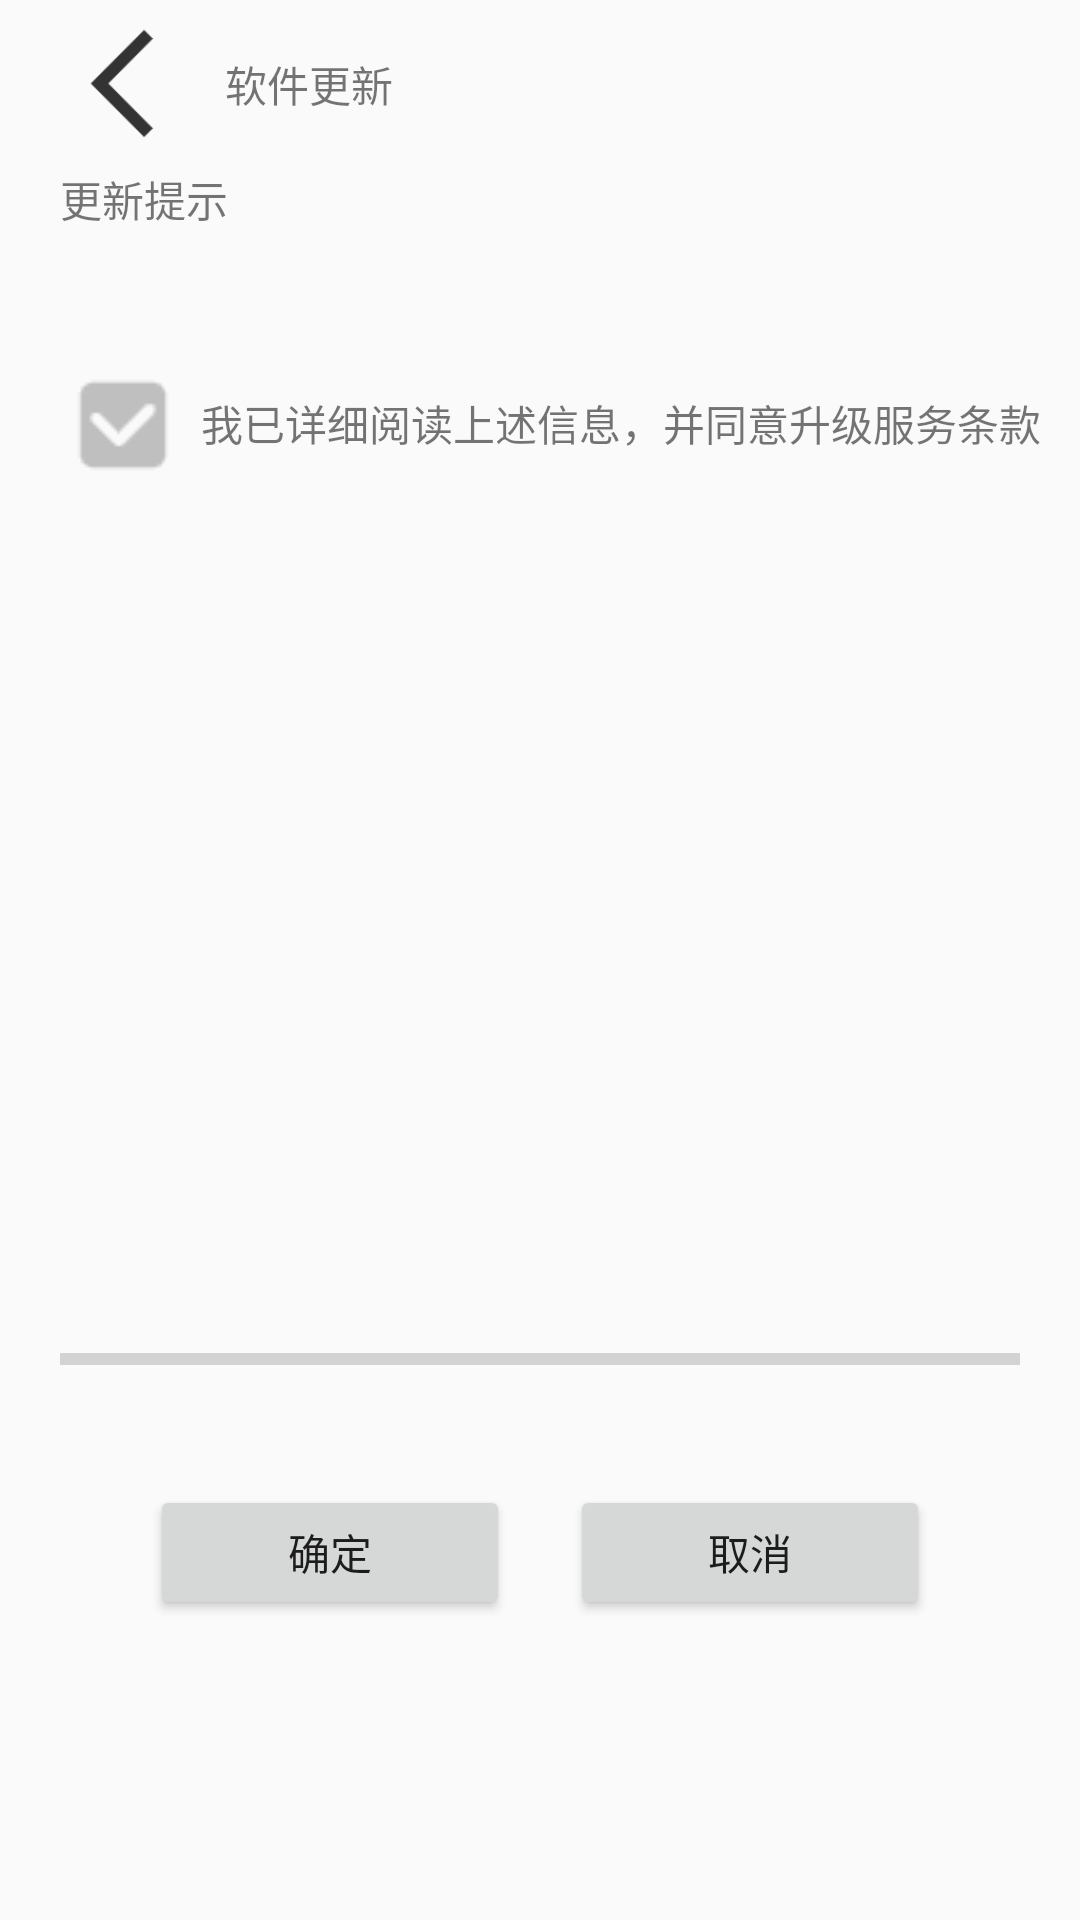

Icon click points for this 1080 × 1920 phone screenshot, format (x,y):
back: (121,83)
